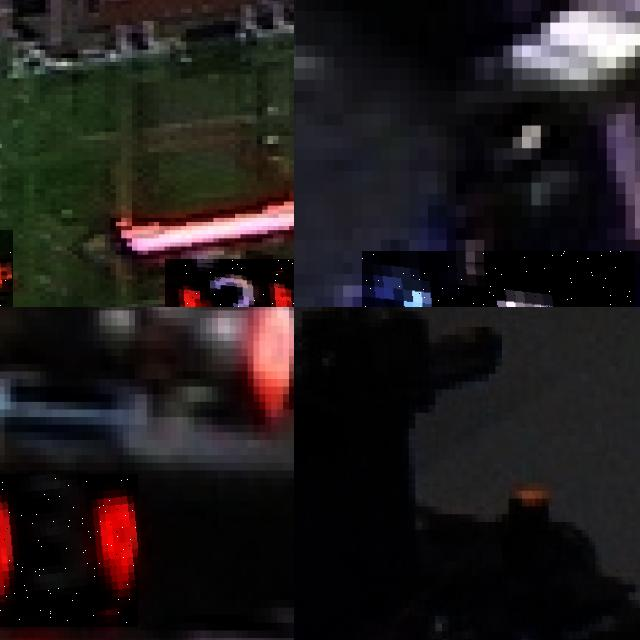B5: (362, 251, 635, 307)
R2: (164, 258, 294, 307)
R3: (0, 474, 137, 626)
